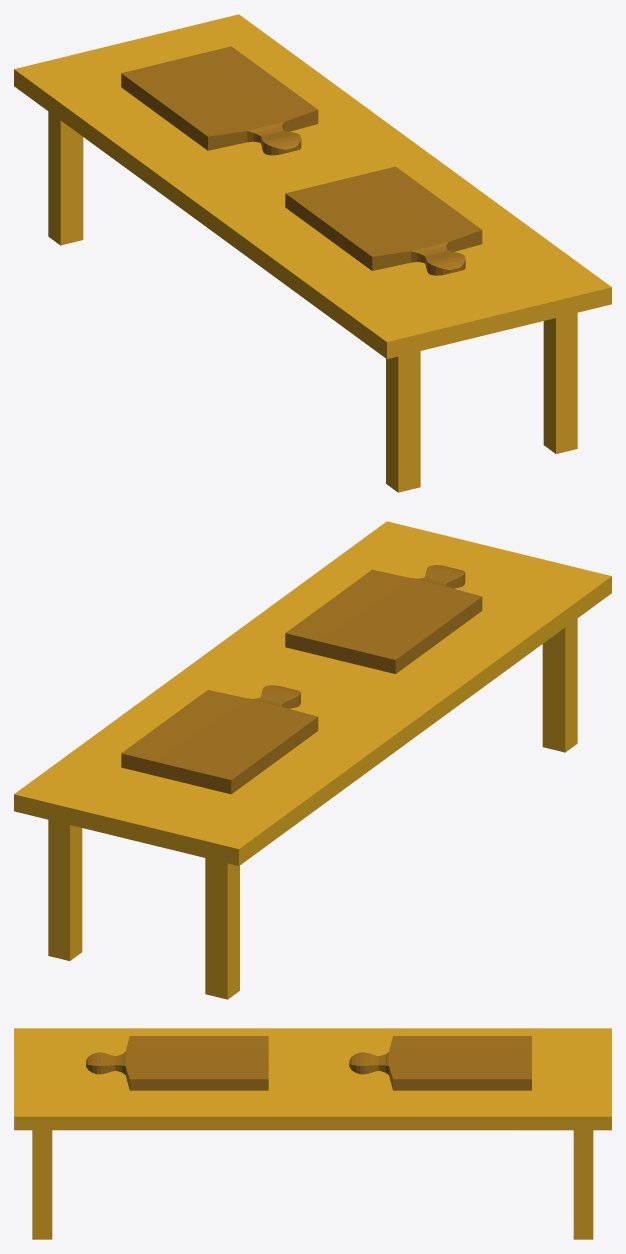
Rendered from mesaTablas.obj.
3 renders of one model, top to bottom at view 1: azimuth 30°, elevation 25°; view 2: azimuth 150°, elevation 25°; view 3: azimuth 270°, elevation 25°, orthographic. The views are drawn at different scales.
Parts seen in each view (by area): view 1: Cube, Cube.002, Cube.001; view 2: Cube, Cube.002, Cube.001; view 3: Cube, Cube.002, Cube.001.
Part boxes in pixels (x1=…): Cube: x1=14, y1=14, x2=611, y2=492; Cube.002: x1=285, y1=166, x2=482, y2=275; Cube.001: x1=121, y1=46, x2=318, y2=155; Cube: x1=14, y1=521, x2=611, y2=999; Cube.002: x1=285, y1=565, x2=482, y2=673; Cube.001: x1=121, y1=685, x2=318, y2=794; Cube: x1=14, y1=1028, x2=611, y2=1239; Cube.002: x1=86, y1=1036, x2=268, y2=1090; Cube.001: x1=349, y1=1036, x2=531, y2=1090.
Size of the model in its own units: 1.99 by 1.55 by 5.72.
